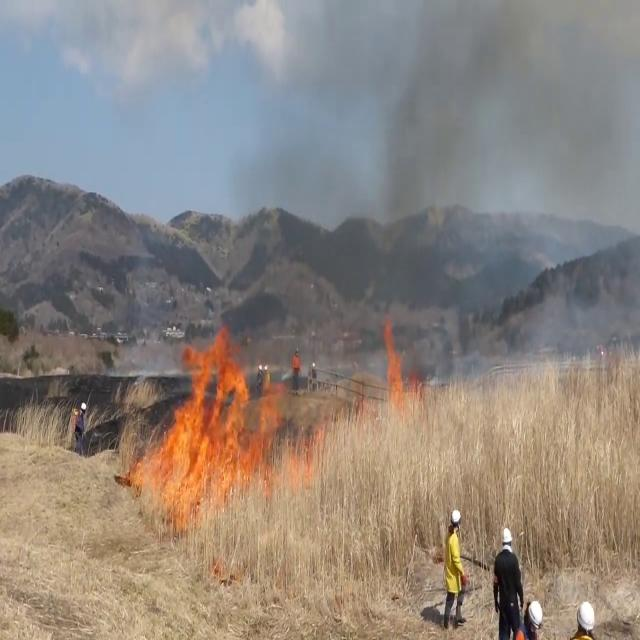Fire: (132, 327, 286, 520), (379, 308, 409, 402)
Smoke: (355, 0, 640, 362)
